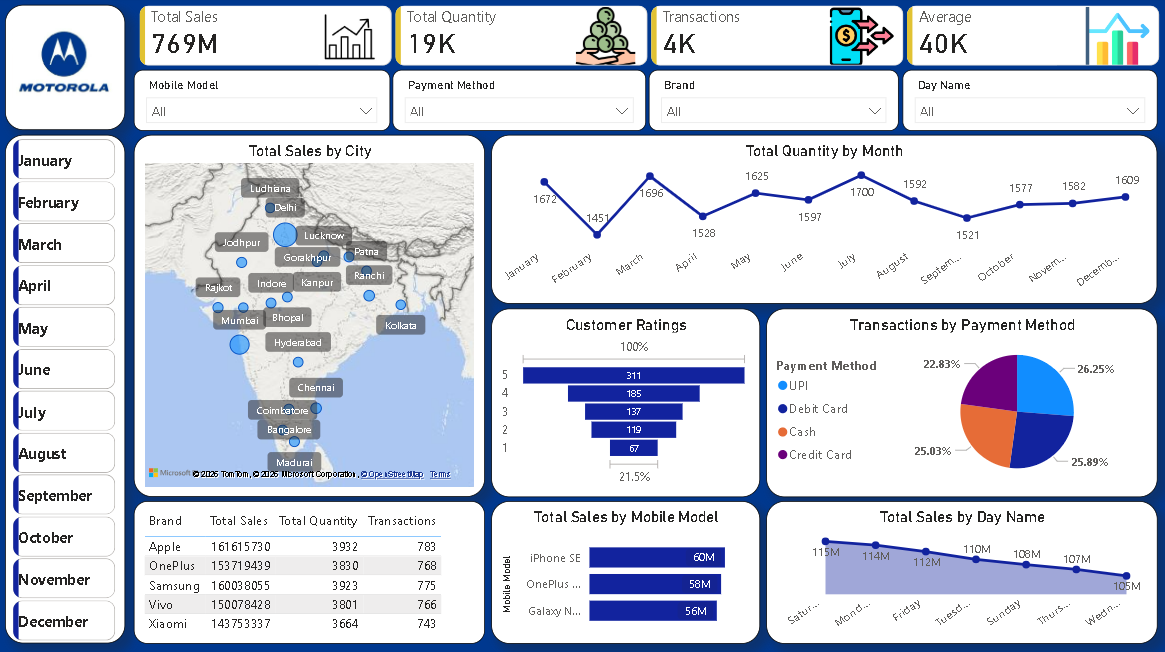

The dashboard page shown, as its layout file describes it:
{"tool":"powerbi","page":{"name":"Page 1","canvas":[1280,720],"ordinal":0},"visuals":[{"type":"shape","box":[5.5,9.6,131.7,137.2],"z":0},{"type":"image","box":[13.7,12.3,113.9,119.4],"z":1000},{"type":"shape","box":[5.5,152.3,131.7,558.5],"z":2000},{"type":"advancedSlicerVisual","fields":{"Values":["Sales_Data.Date.Variation.Date Hierarchy.Month"]},"box":[9.6,152.3,122.1,568.1],"z":3000},{"type":"cardVisual","fields":{"Data":["Sales_Data.Total Sales","Sales_Data.Total Quantity","Sales_Data.Transactions","Sales_Data.Average"]},"box":[146.8,9.6,1133.5,78.2],"z":4000},{"type":"map","fields":{"Category":["Sales_Data.City"],"Size":["Sales_Data.Total Sales"]},"box":[146.8,152.3,385.6,397.9],"z":5000},{"type":"lineChart","fields":{"Y":["Sales_Data.Total Quantity"],"Category":["Sales_Data.Date.Variation.Date Hierarchy.Month","Sales_Data.Date.Variation.Date Hierarchy.Day"]},"box":[539.3,152.3,731.4,185.2],"z":6000},{"type":"clusteredBarChart","fields":{"Category":["Sales_Data.Mobile Model"],"Y":["Sales_Data.Total Sales"]},"box":[539.3,554.4,295,156.4],"z":7000},{"type":"pieChart","fields":{"Category":["Sales_Data.Payment Method"],"Y":["Sales_Data.Transactions"]},"box":[841.2,343.1,429.5,207.2],"z":8000},{"type":"funnel","title":"Customer Ratings ","fields":{"Category":["Sales_Data.Customer Ratings"],"Y":["CountNonNull(Sales_Data.Customer Ratings)"]},"box":[539.3,343.1,295,207.2],"z":9000},{"type":"areaChart","fields":{"Category":["Sales_Data.Day Name"],"Y":["Sales_Data.Total Sales"]},"box":[841.2,554.4,429.5,156.4],"z":10000},{"type":"tableEx","fields":{"Values":["Sales_Data.Brand","Sales_Data.Total Sales","Sales_Data.Total Quantity","Sales_Data.Transactions"]},"box":[146.8,554.4,385.6,156.4],"z":10001},{"type":"slicer","fields":{"Values":["Sales_Data.Mobile Model"]},"box":[146.8,81,281.3,67.2],"z":10002},{"type":"slicer","fields":{"Values":["Sales_Data.Payment Method"]},"box":[430.9,81,278.6,67.2],"z":10003},{"type":"slicer","fields":{"Values":["Sales_Data.Brand"]},"box":[712.2,81,274.4,67.2],"z":10004},{"type":"slicer","fields":{"Values":["Sales_Data.Day Name"]},"box":[990.7,81,279.9,67.2],"z":10005}]}

Visuals, with their boxes in screenshot pixels (x1, y1, x2, y2), scaled from the page's 1280x720 canvas onto the 1165x652 screenshot:
shape: 5,9,125,133
image: 12,11,116,119
shape: 5,138,125,644
advancedSlicerVisual - Sales_Data.Date.Variation.Date Hierarchy.Month: 9,138,120,651
cardVisual - Sales_Data.Total Sales x Sales_Data.Total Quantity: 134,9,1164,80
map - Sales_Data.City x Sales_Data.Total Sales: 134,138,485,498
lineChart - Sales_Data.Total Quantity x Sales_Data.Date.Variation.Date Hierarchy.Month: 491,138,1157,306
clusteredBarChart - Sales_Data.Mobile Model x Sales_Data.Total Sales: 491,502,759,644
pieChart - Sales_Data.Payment Method x Sales_Data.Transactions: 766,311,1157,498
"Customer Ratings " funnel: 491,311,759,498
areaChart - Sales_Data.Day Name x Sales_Data.Total Sales: 766,502,1157,644
tableEx - Sales_Data.Brand x Sales_Data.Total Sales: 134,502,485,644
slicer - Sales_Data.Mobile Model: 134,73,390,134
slicer - Sales_Data.Payment Method: 392,73,646,134
slicer - Sales_Data.Brand: 648,73,898,134
slicer - Sales_Data.Day Name: 902,73,1156,134
